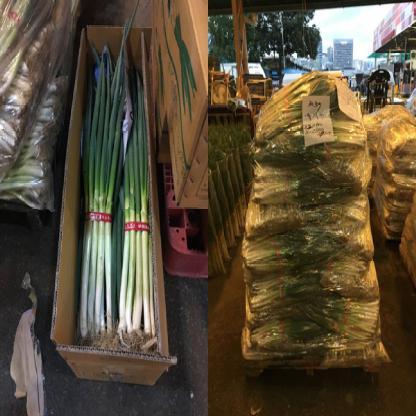green onion: (74, 38, 122, 337), (116, 50, 147, 337)
